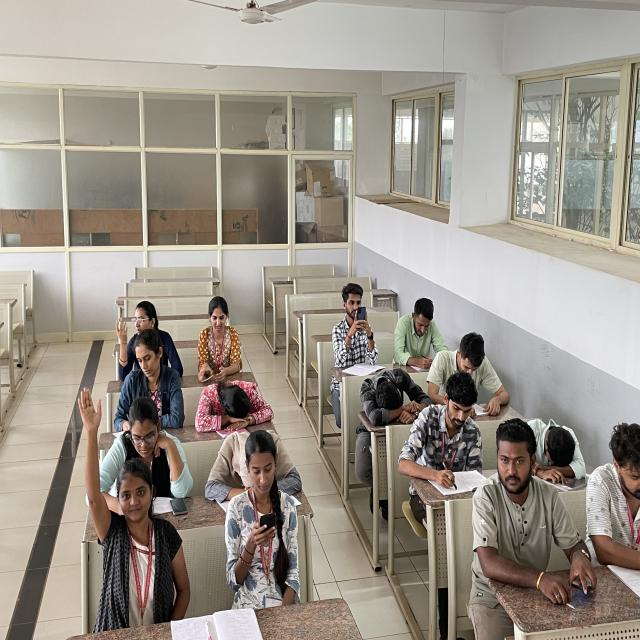Hand Rising: (58, 396, 167, 617)
Reading: (108, 390, 171, 513), (437, 331, 521, 414)
Sleeping: (203, 423, 302, 496), (194, 366, 284, 434), (351, 362, 430, 439), (524, 397, 595, 479)
Using Phone: (481, 416, 598, 602), (222, 437, 310, 593), (188, 283, 251, 388), (320, 278, 391, 362)
Writing: (99, 334, 192, 434), (409, 376, 480, 496), (392, 287, 454, 372)
